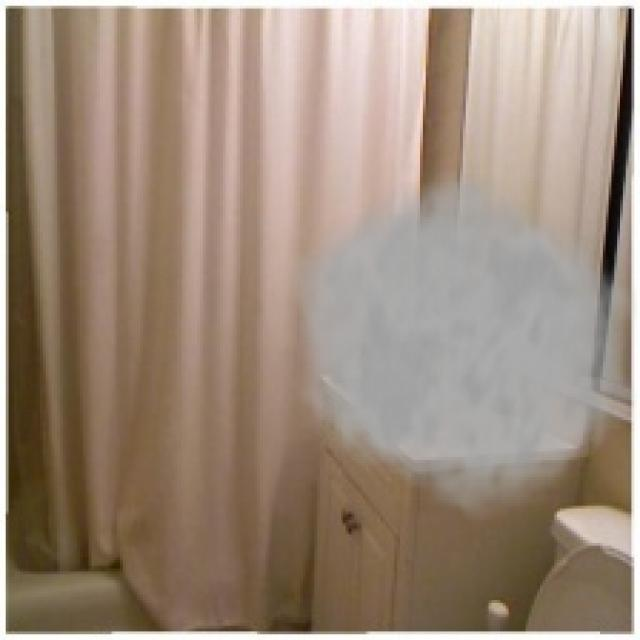Smoke: (277, 162, 637, 528)
